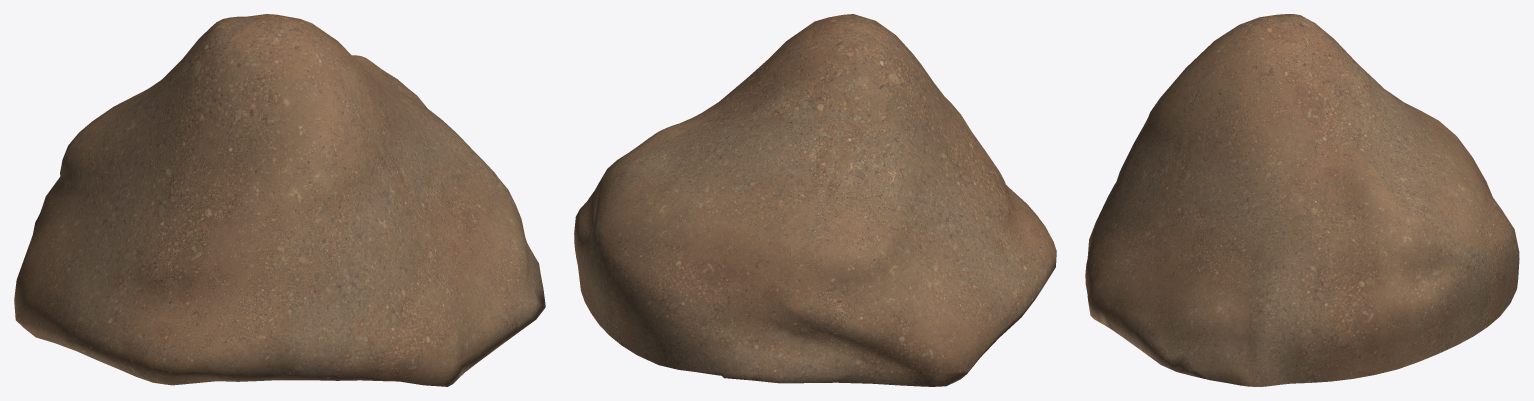
Rendered from SM_Block_Ground.004.fbx.
3 renders of one model, left to right at view 1: azimuth 30°, elevation 25°; view 2: azimuth 150°, elevation 25°; view 3: azimuth 270°, elevation 25°, orthographic. The views are drawn at different scales.
Parts seen in each view (by area): view 1: SM_Block_Ground.004; view 2: SM_Block_Ground.004; view 3: SM_Block_Ground.004.
Boxes of the visible parts, x1,y1,x2,y2 form: SM_Block_Ground.004: [14, 14, 545, 386]; SM_Block_Ground.004: [574, 14, 1056, 386]; SM_Block_Ground.004: [1085, 14, 1519, 386].
Size of the model in its own units: 3.96 by 2.67 by 3.91.
